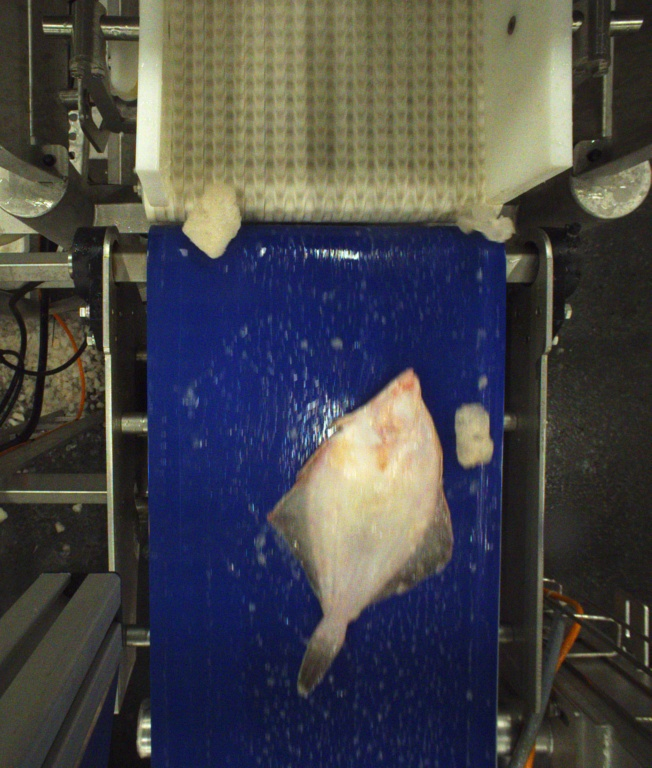PLE: (267, 365, 456, 700)
